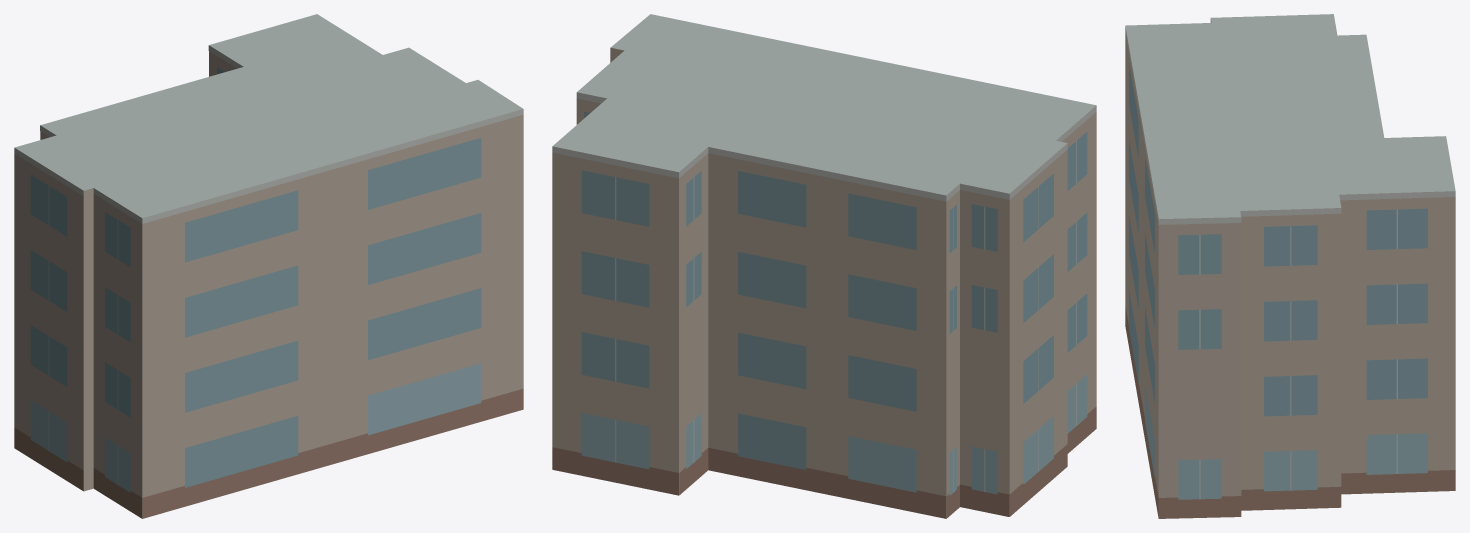
File: survey-upis-33027132.glb
The picture shows the model from 3 angles, left to right: view 1: azimuth 30°, elevation 25°; view 2: azimuth 150°, elevation 25°; view 3: azimuth 270°, elevation 25°; orthographic projection. The views are drawn at different scales.
Parts seen in each view (by area): view 1: survey-upis-33027132.tmp; view 2: survey-upis-33027132.tmp; view 3: survey-upis-33027132.tmp.
Boxes of the visible parts, x1,y1,x2,y2 form: survey-upis-33027132.tmp: (14, 14, 523, 518); survey-upis-33027132.tmp: (552, 14, 1096, 518); survey-upis-33027132.tmp: (1125, 14, 1455, 518).
Size of the model in its own units: 18.8 by 12.8 by 12.8.
